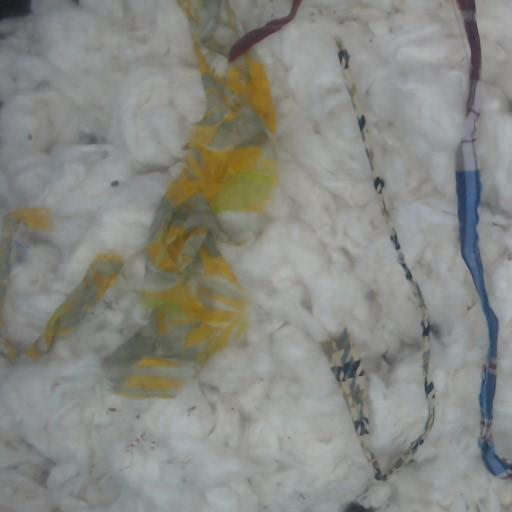cloth: (112, 0, 301, 395), (332, 41, 434, 480), (455, 0, 511, 478), (26, 254, 122, 356), (0, 208, 46, 323)
cotton: (0, 0, 511, 511)
